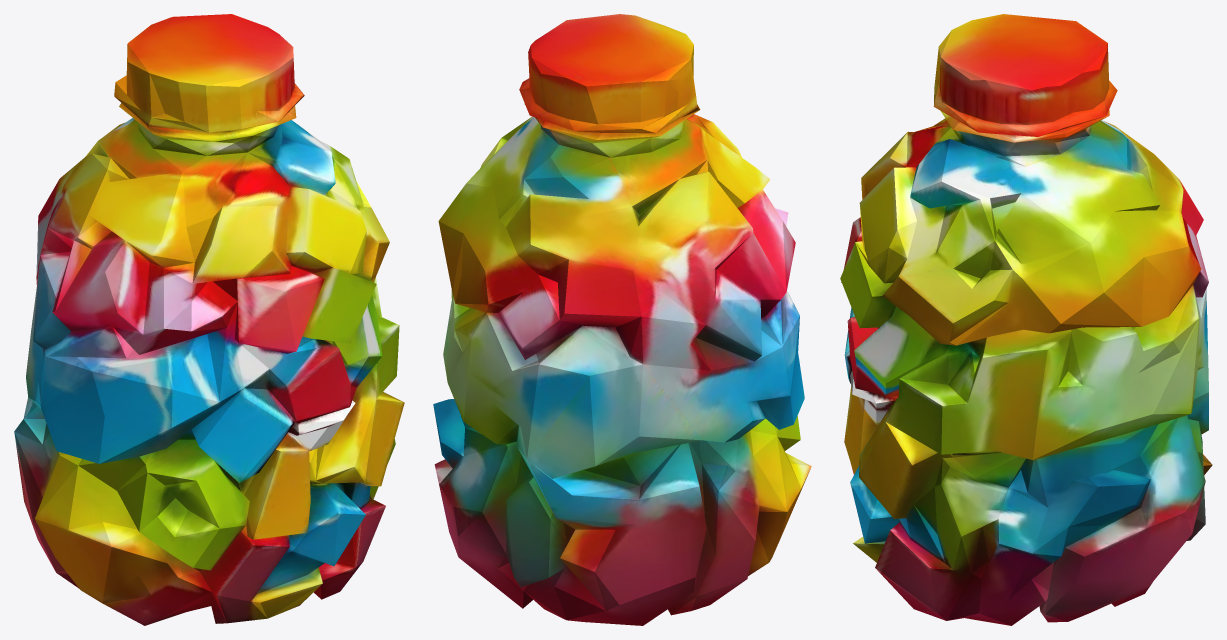
File: bottle.glb
3 views of the same model, side by side, from view 1: azimuth 30°, elevation 25°; view 2: azimuth 150°, elevation 25°; view 3: azimuth 270°, elevation 25° (orthographic).
Parts seen in each view (by area): view 1: model; view 2: model; view 3: model.
Part boxes in pixels (x1=…): model: x1=14, y1=14, x2=404, y2=625; model: x1=433, y1=14, x2=811, y2=625; model: x1=840, y1=14, x2=1212, y2=625.
Size of the model in its own units: 1.26 by 1.91 by 1.2.
Materials: 1 (1 with a texture image).
